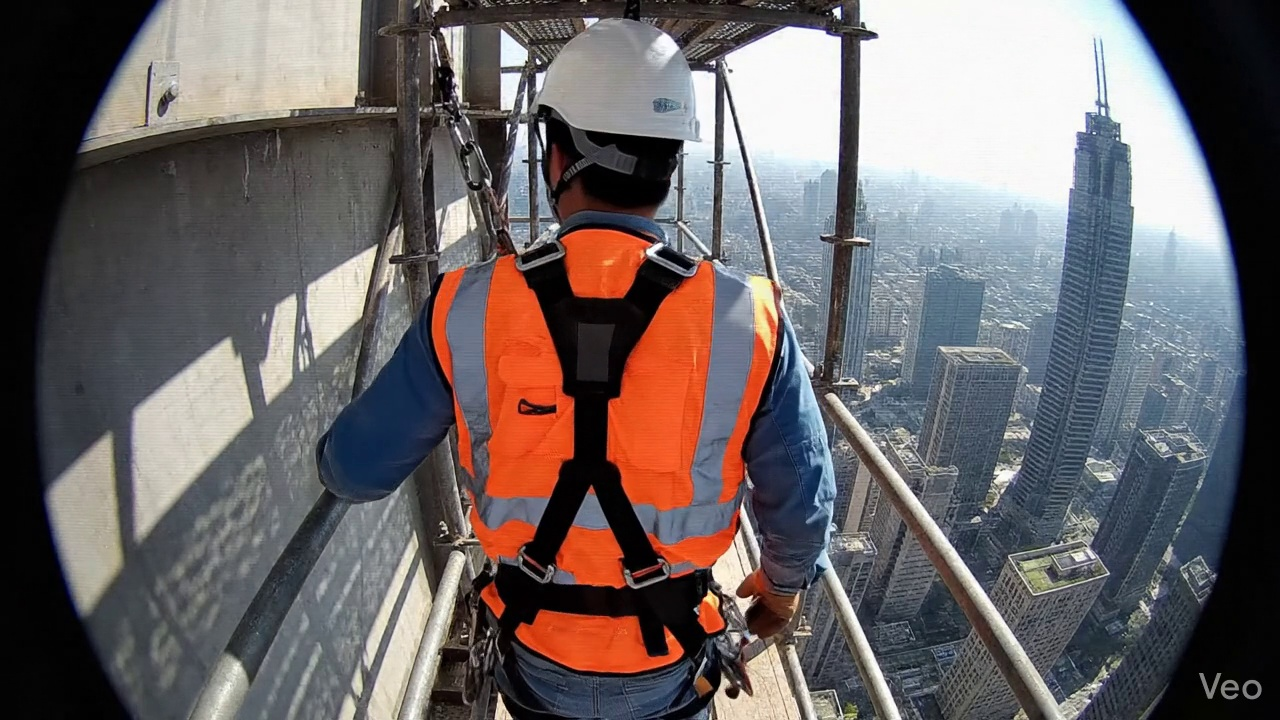person: (317, 19, 834, 719), (471, 675, 477, 677), (476, 613, 480, 616), (476, 681, 477, 682)
